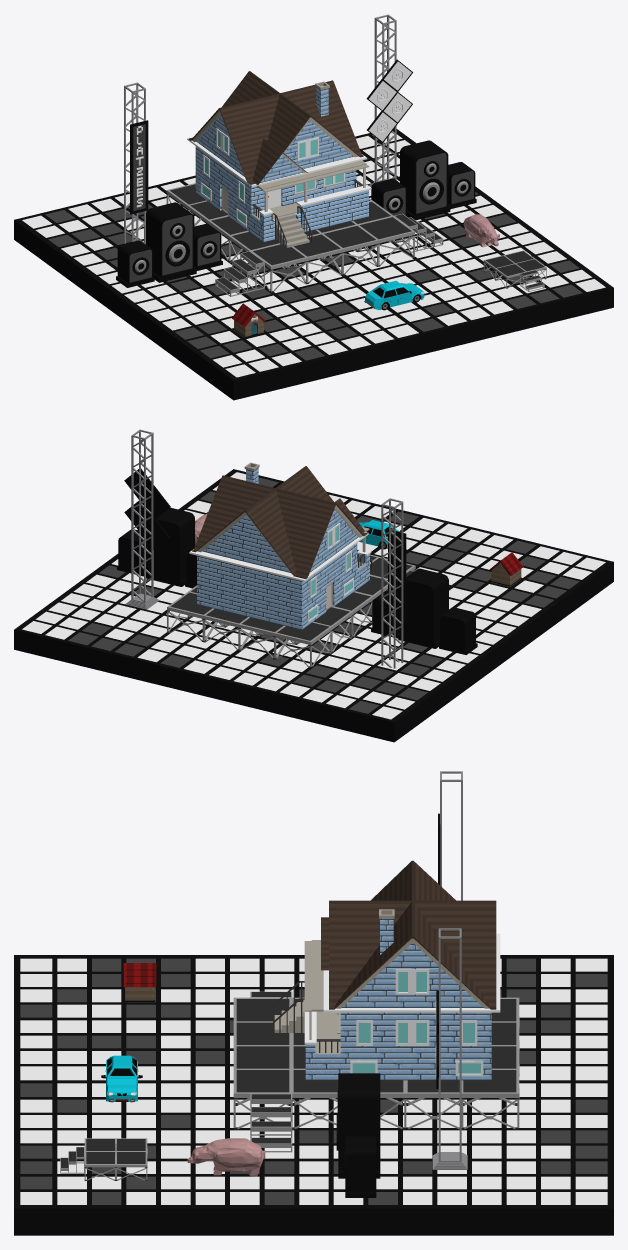
3 renders of one model, top to bottom at view 1: azimuth 30°, elevation 25°; view 2: azimuth 150°, elevation 25°; view 3: azimuth 270°, elevation 25°, orthographic. The views are drawn at different scales.
Visible parts, largest first — view 1: Cube.008, Cube.547, VEHICLES_CAR, ANIMAL_HIPOPOTAMO, OBJRANDOM_DOGHOUSE; view 2: Cube.008, Cube.547, OBJRANDOM_DOGHOUSE, VEHICLES_CAR; view 3: Cube.008, Cube.547, ANIMAL_HIPOPOTAMO, VEHICLES_CAR, OBJRANDOM_DOGHOUSE.
Boxes of the visible parts, bbox=[...] form: Cube.008: bbox=[14, 14, 613, 400]; Cube.547: bbox=[187, 71, 371, 248]; VEHICLES_CAR: bbox=[364, 281, 424, 310]; ANIMAL_HIPOPOTAMO: bbox=[463, 214, 499, 247]; OBJRANDOM_DOGHOUSE: bbox=[232, 303, 265, 337]; Cube.008: bbox=[14, 429, 613, 742]; Cube.547: bbox=[189, 462, 372, 629]; OBJRANDOM_DOGHOUSE: bbox=[489, 552, 523, 586]; VEHICLES_CAR: bbox=[359, 520, 400, 549]; Cube.008: bbox=[14, 771, 613, 1235]; Cube.547: bbox=[272, 860, 500, 1080]; ANIMAL_HIPOPOTAMO: bbox=[187, 1138, 265, 1176]; VEHICLES_CAR: bbox=[101, 1055, 142, 1102]; OBJRANDOM_DOGHOUSE: bbox=[123, 963, 156, 1001].
Bounding box in the file's own units: 4000 × 1972 × 4000.
Materials: 46 (2 with a texture image).
